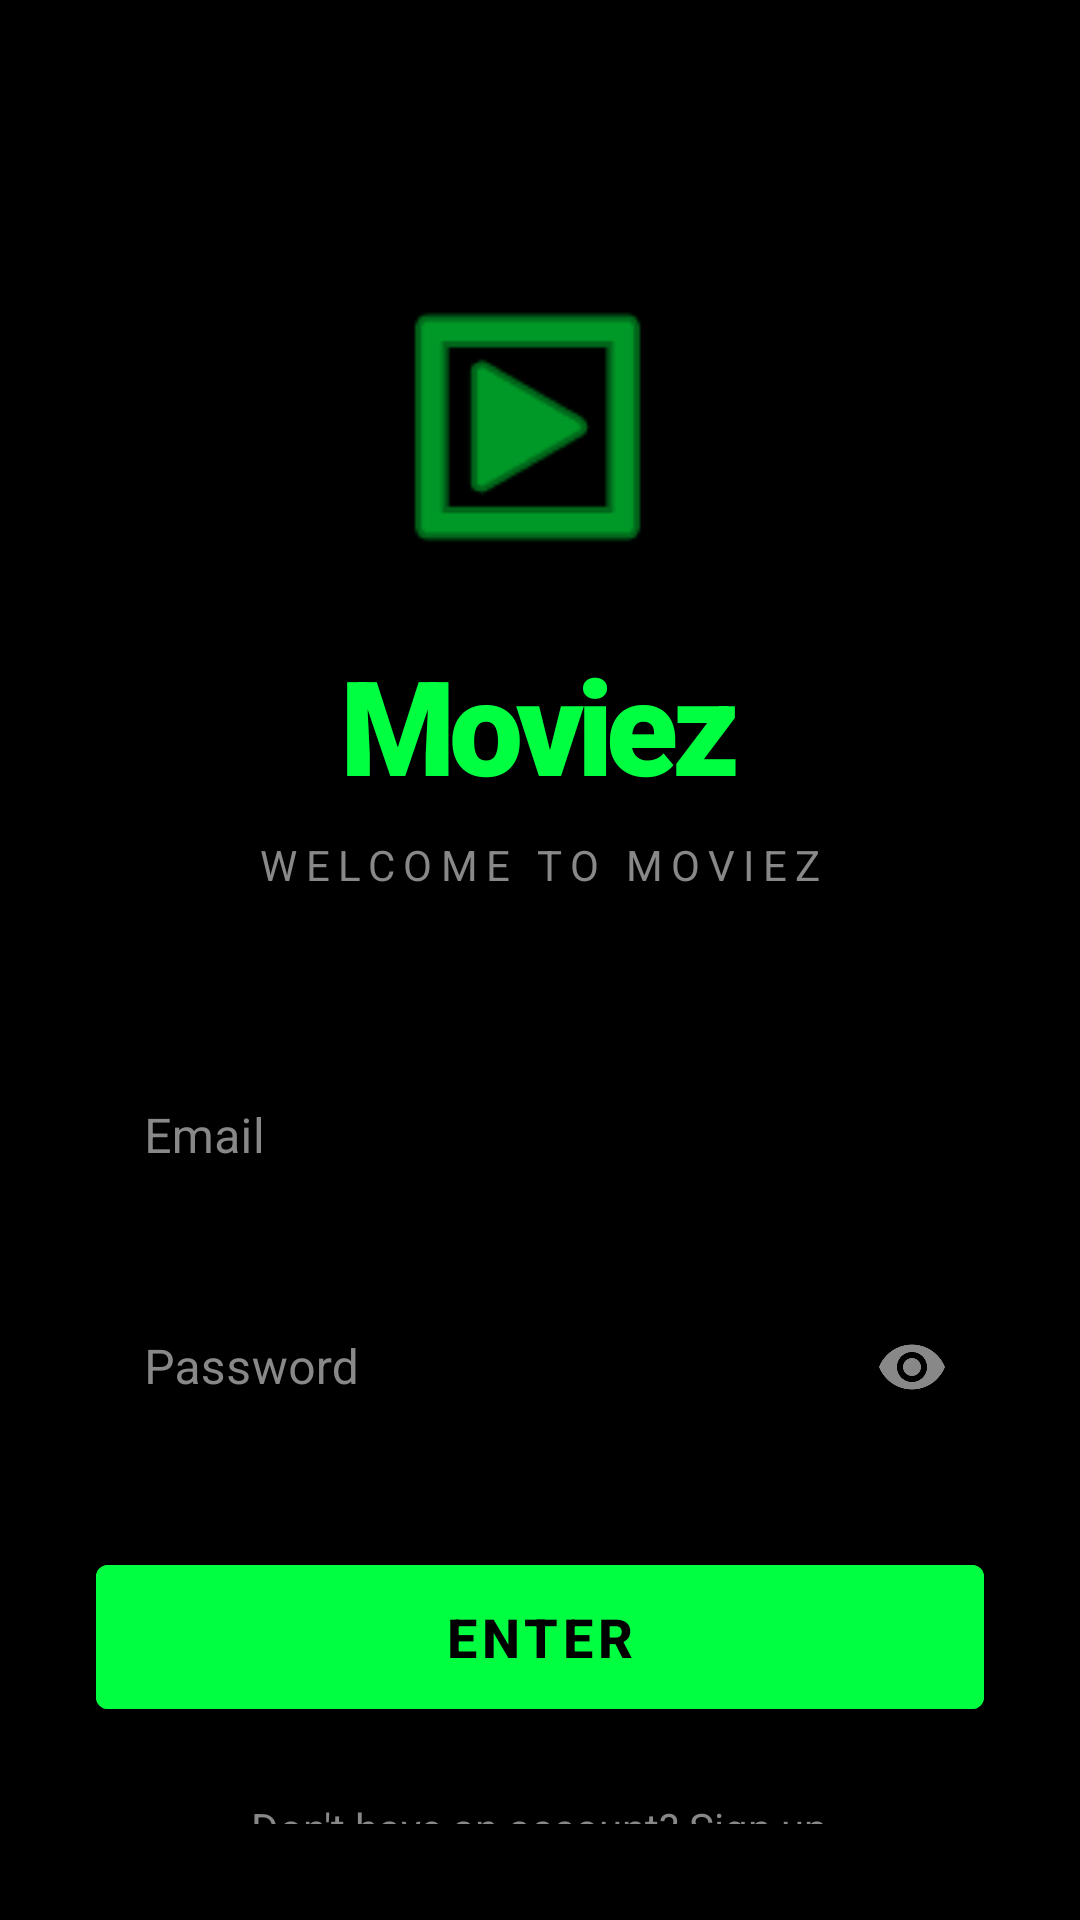

Where icons sit on this 1080x1920 app screen, as (x1, y1, x2, y2):
slideshow: (414, 313, 641, 541)
